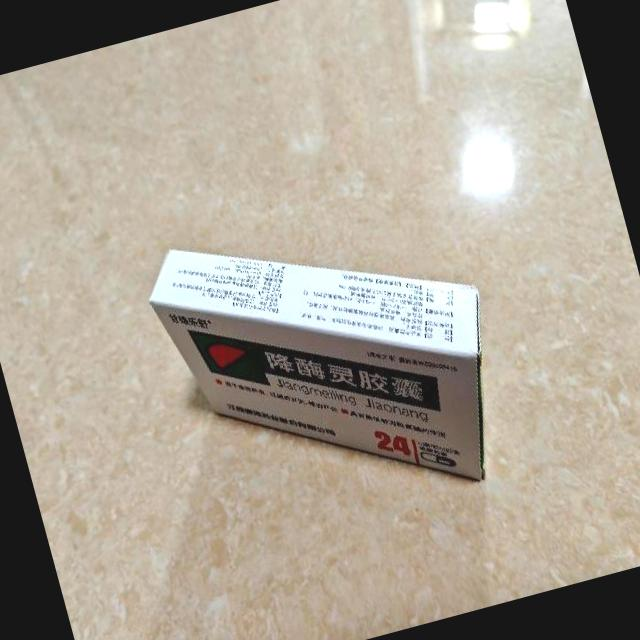box: (138, 175, 526, 550)
